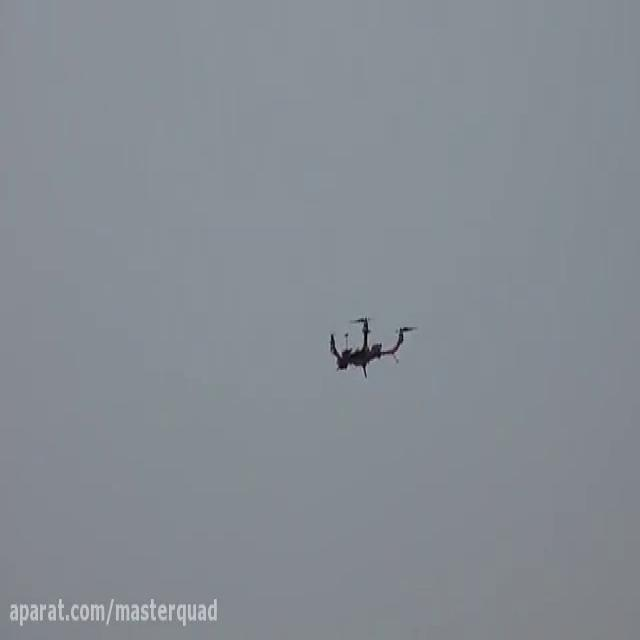drone: (322, 306, 420, 380)
